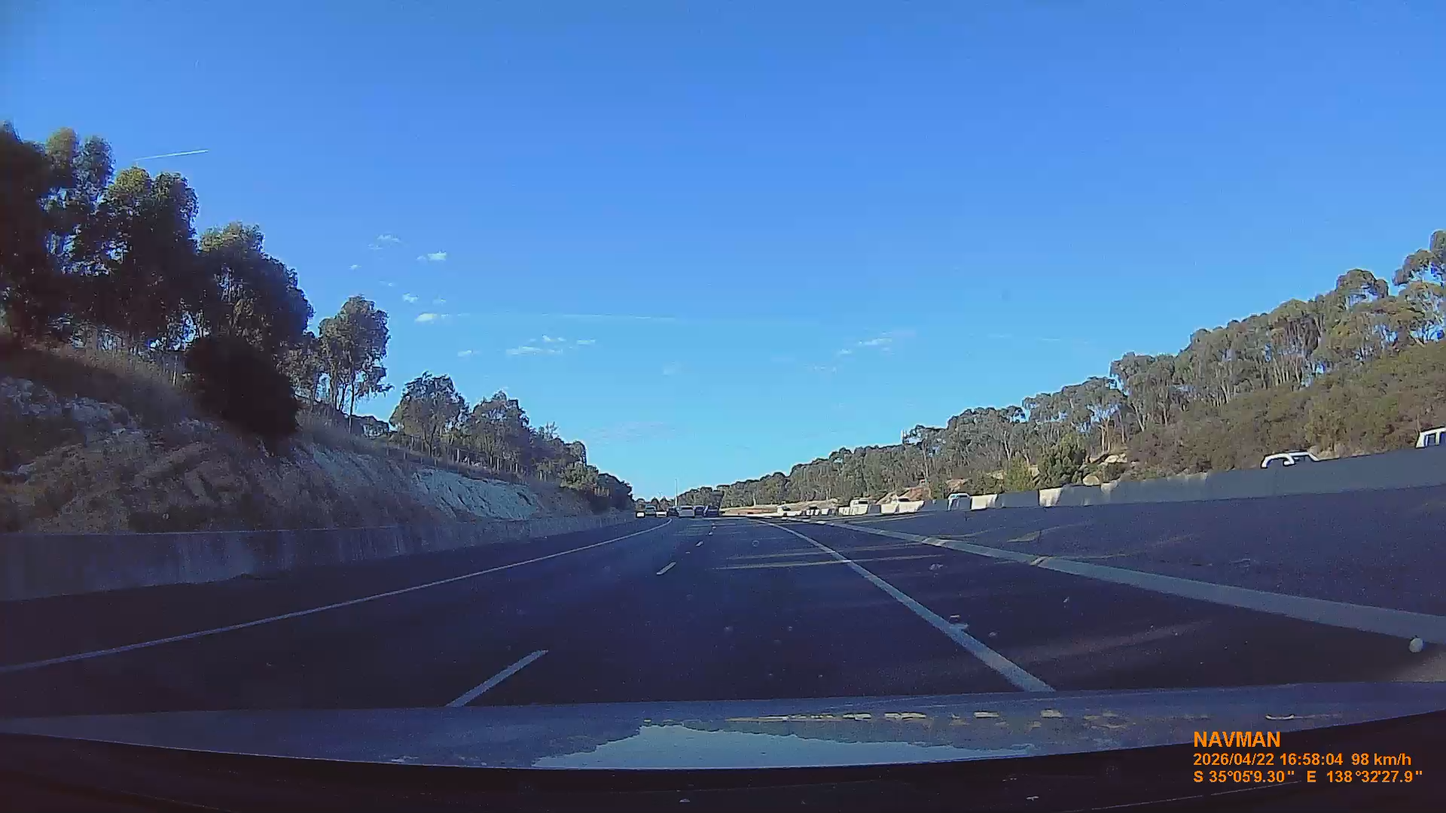road barriers: (0, 512, 633, 601), (972, 449, 1445, 510)
